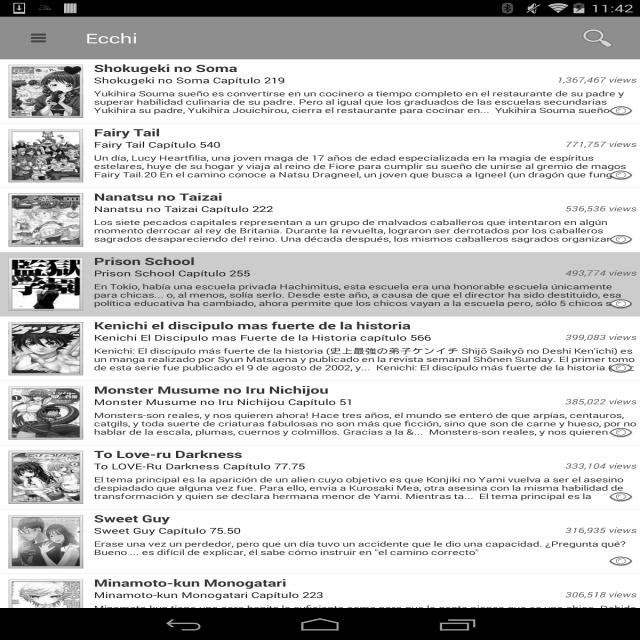ImageButton: (9, 17, 68, 59), (605, 102, 637, 122), (605, 166, 637, 186), (605, 230, 637, 250), (605, 294, 637, 314), (605, 358, 637, 378), (605, 423, 637, 443), (605, 488, 637, 508), (605, 552, 637, 572)
ImageView: (9, 193, 83, 247), (9, 386, 83, 440), (9, 579, 83, 633), (9, 65, 83, 118), (9, 129, 83, 182), (9, 258, 83, 311), (9, 322, 83, 375), (9, 451, 83, 504), (9, 515, 83, 568), (563, 19, 632, 57), (62, 65, 83, 78)
TextView: (94, 88, 637, 122), (94, 474, 637, 508), (94, 538, 637, 572), (94, 152, 637, 185), (94, 217, 637, 250), (94, 410, 637, 443), (94, 603, 637, 636), (94, 282, 637, 314), (94, 346, 637, 378), (94, 61, 637, 75), (94, 254, 637, 268), (94, 447, 637, 461), (94, 126, 637, 139), (94, 190, 637, 203), (94, 319, 637, 332), (94, 383, 637, 396), (94, 512, 637, 525), (94, 576, 637, 589), (94, 139, 455, 153), (94, 203, 455, 217), (94, 332, 455, 346), (94, 396, 455, 410), (94, 525, 455, 539), (94, 589, 455, 603), (94, 75, 455, 88), (94, 268, 455, 281), (94, 461, 455, 474), (455, 139, 637, 153), (455, 203, 637, 217), (455, 332, 637, 346), (455, 396, 637, 410), (455, 525, 637, 539), (455, 589, 637, 603), (455, 75, 637, 88), (455, 268, 637, 281), (455, 461, 637, 474), (85, 29, 138, 47)
